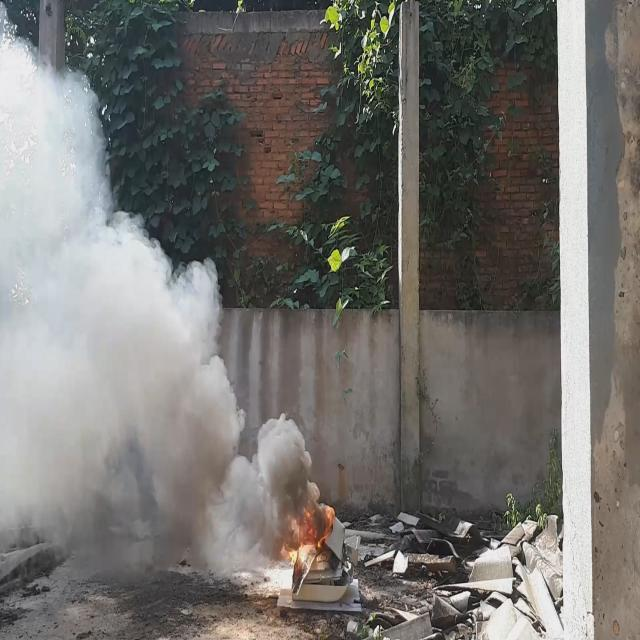Fire: (277, 498, 337, 571)
Smoke: (0, 0, 329, 580)
